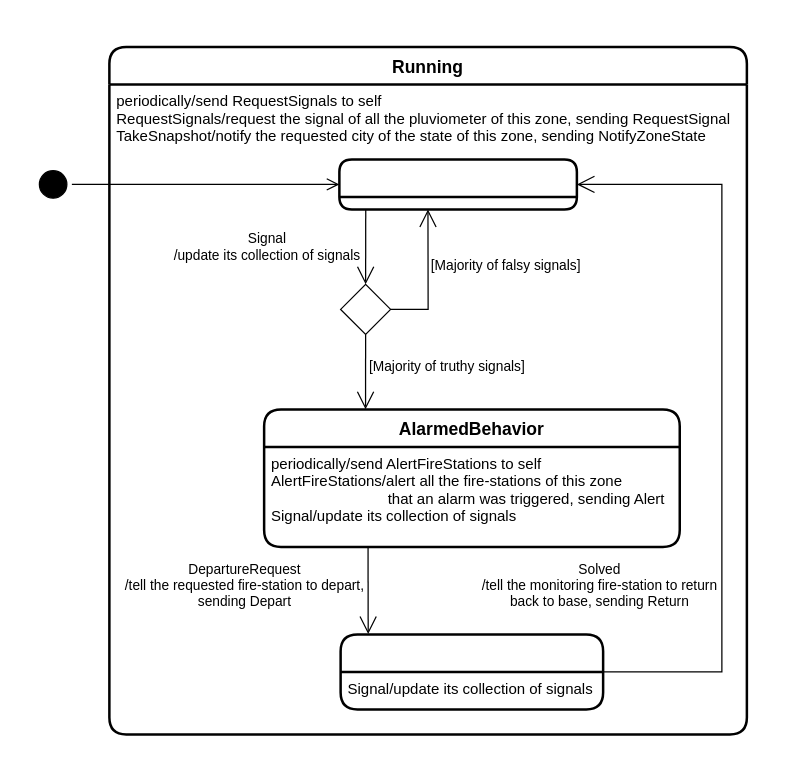
This 805x780 diagram has some shape labels left out. Each missing label, with the box of its shape:
CalmBehavior: (338, 158, 578, 210)
MonitoredBehavior: (339, 632, 604, 710)
